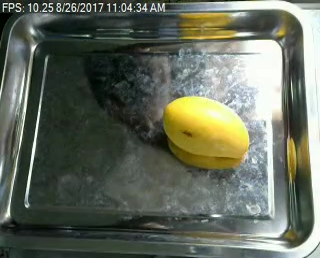Mango: (159, 94, 251, 167)
